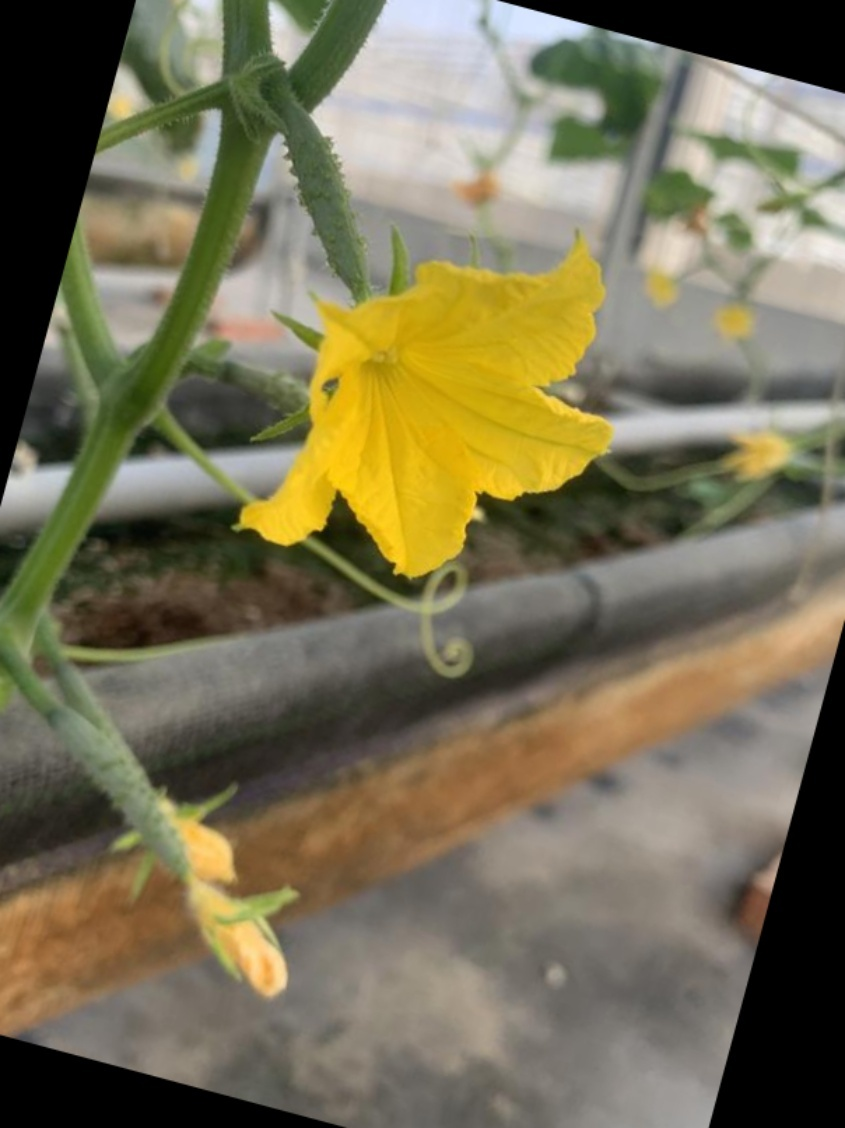flowering: (162, 84, 633, 598)
